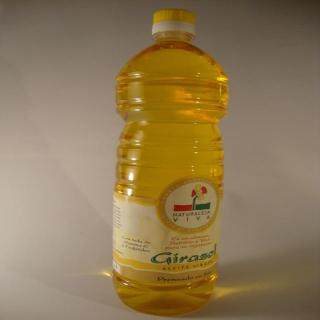Plastic-bottle: (107, 8, 235, 318)
